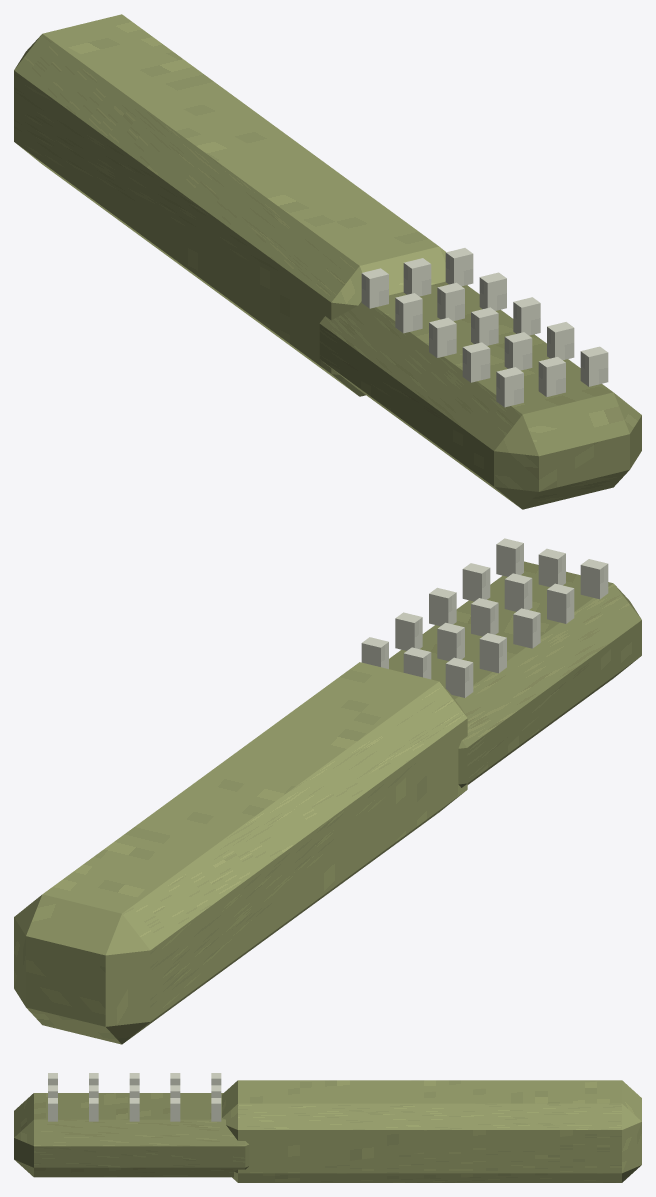
File: toothbrush_electric.glb
3 views of the same model, one above another, from view 1: azimuth 30°, elevation 25°; view 2: azimuth 150°, elevation 25°; view 3: azimuth 270°, elevation 25° (orthographic). The views are drawn at different scales.
Parts seen in each view (by area): view 1: block_soft grip, block_head, block_bristle -1 3, block_bristle 1 4, block_bristle -1 4, block_bristle -1 0, block_bristle -1 1, block_bristle -1 2, block_bristle 0 4, block_bristle 0 3, block_bristle 1 0, block_bristle 0 0 (+5 smaller); view 2: block_soft grip, block_head, block_bristle -1 4, block_bristle -1 0, block_bristle -1 3, block_bristle -1 1, block_bristle -1 2, block_bristle 0 3, block_bristle 1 3, block_bristle 0 1, block_bristle 0 2, block_bristle 1 1 (+5 smaller); view 3: block_soft grip, block_head, block_bristle 1 0, block_bristle 1 1, block_bristle 1 2, block_bristle 1 3, block_bristle 1 4.
Part boxes in pixels (bbox=[...]): block_soft grip: bbox=[14, 14, 445, 396]; block_head: bbox=[319, 281, 641, 509]; block_bristle -1 3: bbox=[462, 342, 490, 382]; block_bristle 1 4: bbox=[580, 346, 608, 386]; block_bristle -1 4: bbox=[496, 367, 523, 407]; block_bristle -1 0: bbox=[361, 268, 388, 308]; block_bristle -1 1: bbox=[395, 293, 422, 333]; block_bristle -1 2: bbox=[429, 317, 456, 357]; block_bristle 0 4: bbox=[538, 357, 565, 396]; block_bristle 0 3: bbox=[504, 332, 532, 370]; block_bristle 1 0: bbox=[445, 248, 473, 286]; block_bristle 0 0: bbox=[403, 258, 431, 296]; block_soft grip: bbox=[14, 662, 467, 1044]; block_head: bbox=[389, 561, 641, 787]; block_bristle -1 4: bbox=[580, 559, 608, 599]; block_bristle -1 0: bbox=[445, 657, 473, 697]; block_bristle -1 3: bbox=[547, 583, 574, 623]; block_bristle -1 1: bbox=[479, 633, 506, 673]; block_bristle -1 2: bbox=[513, 608, 540, 648]; block_bristle 0 3: bbox=[504, 573, 532, 611]; block_bristle 1 3: bbox=[462, 563, 490, 601]; block_bristle 0 1: bbox=[437, 622, 464, 660]; block_bristle 0 2: bbox=[471, 598, 498, 636]; block_bristle 1 1: bbox=[395, 612, 422, 650]; block_soft grip: bbox=[222, 1080, 641, 1182]; block_head: bbox=[14, 1093, 249, 1177]; block_bristle 1 0: bbox=[211, 1098, 221, 1121]; block_bristle 1 1: bbox=[170, 1098, 180, 1121]; block_bristle 1 2: bbox=[129, 1098, 139, 1121]; block_bristle 1 3: bbox=[89, 1098, 98, 1121]; block_bristle 1 4: bbox=[48, 1098, 57, 1121].
Size of the model in its own units: 0.026 by 0.023 by 0.158.
1 material, 1 textured.
